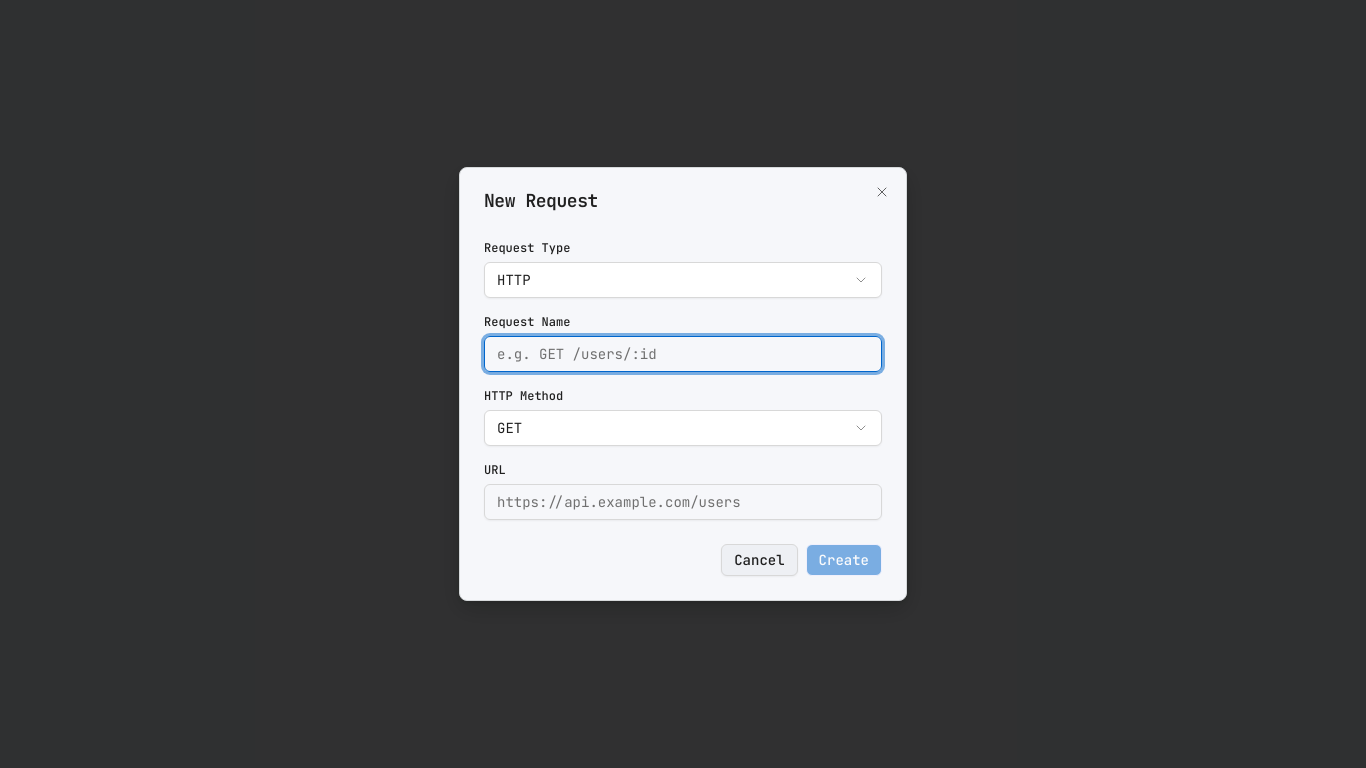
Test: CreateRequestDialog grpc › does not show the HTTP method select for gRPC
Click the dropdown named "Request Type".
click(514, 280)  # box [484,262,882,298]
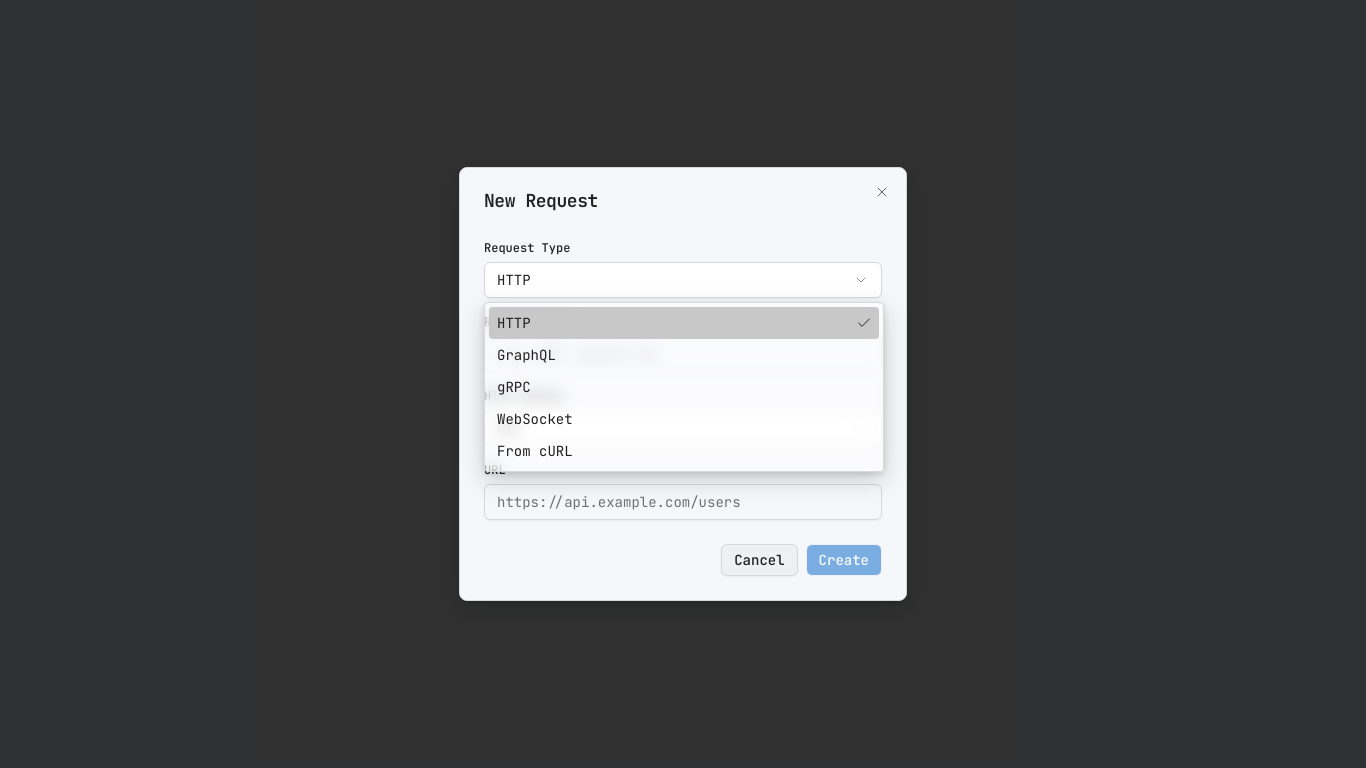
Click the option "gRPC".
click(514, 387)  # box [497,378,531,396]
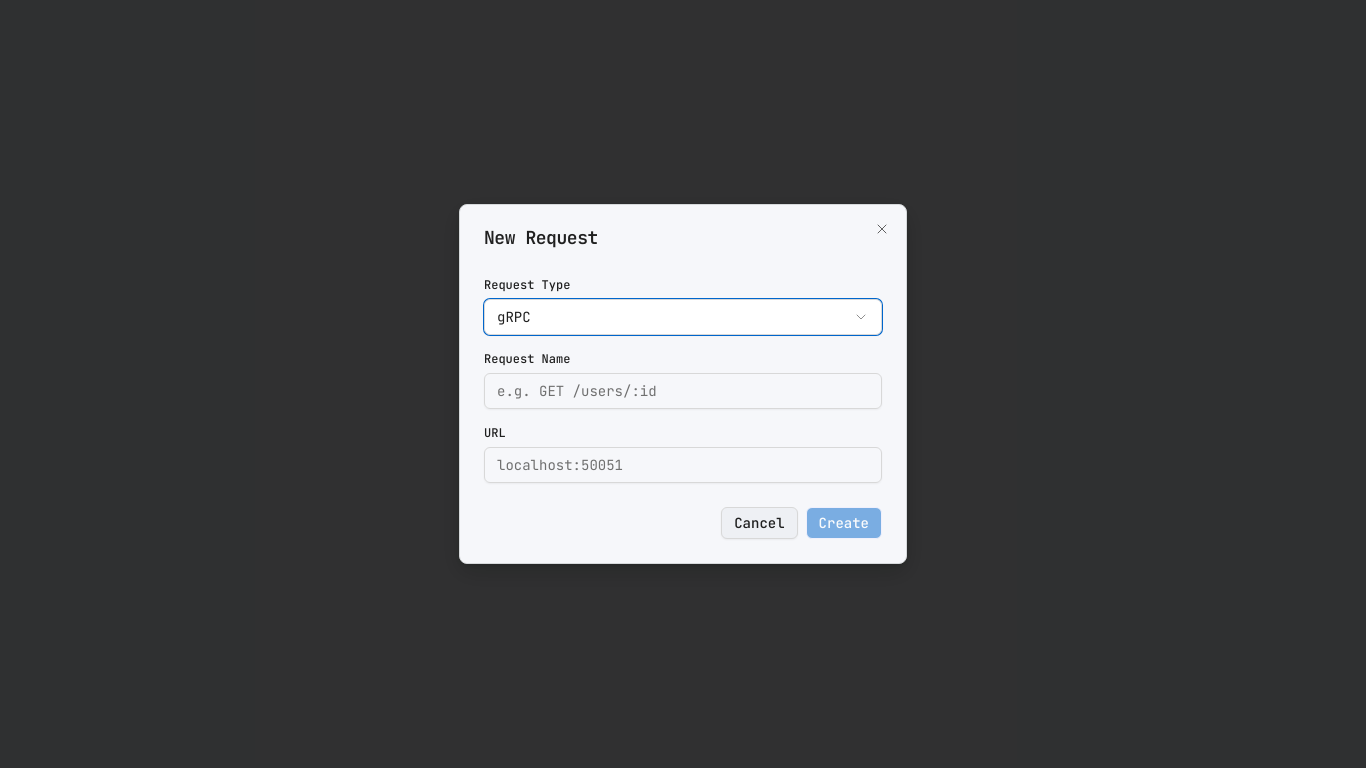
Now the text "HTTP Method" is gone
